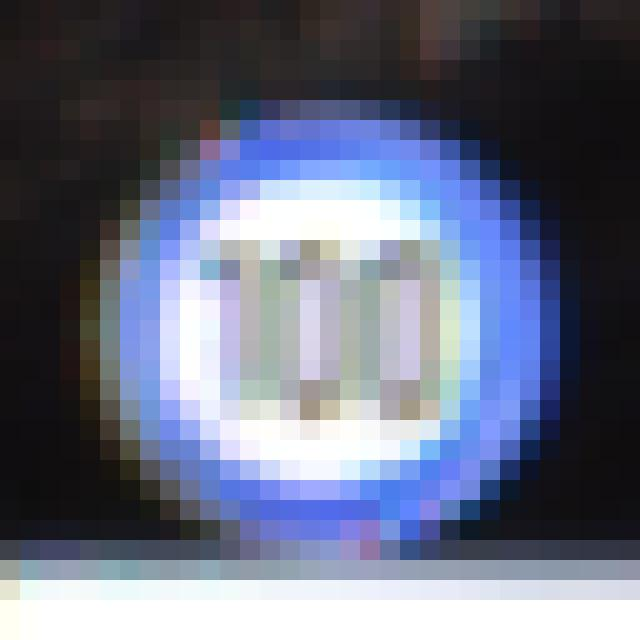SPEED LIMIT 100: (104, 127, 532, 531)
